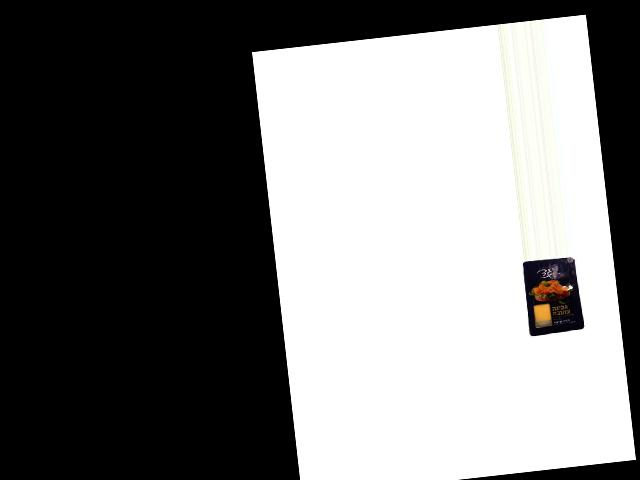cheese: (521, 255, 586, 336)
